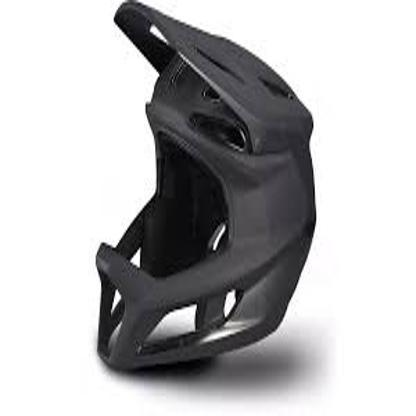not trash: (92, 0, 313, 367)
